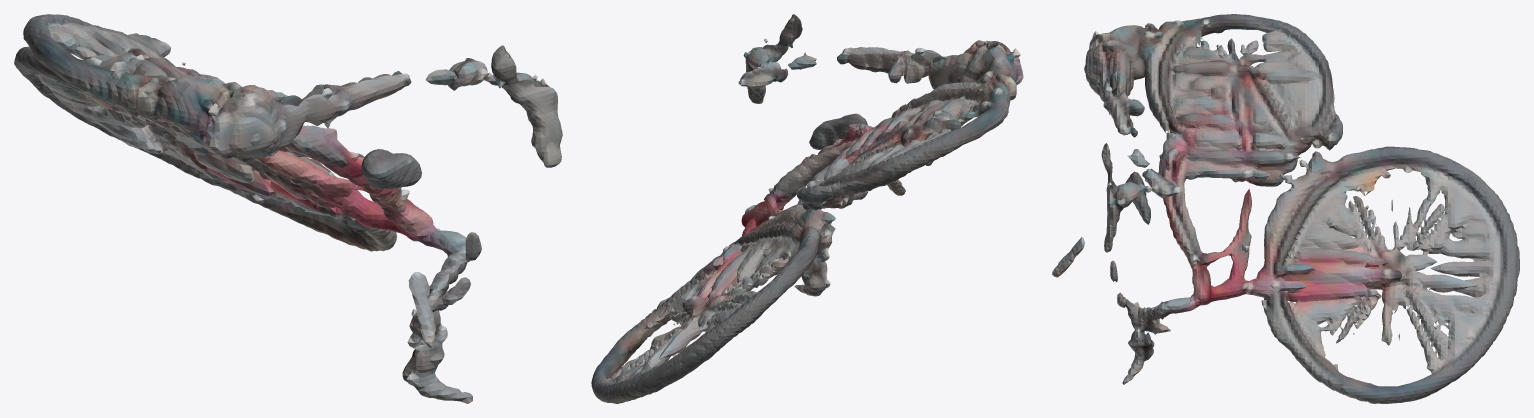
File: 000001_bicycle_sport_bike.glb
3 renders of one model, left to right at view 1: azimuth 30°, elevation 25°; view 2: azimuth 150°, elevation 25°; view 3: azimuth 270°, elevation 25°, orthographic. The views are drawn at different scales.
Parts seen in each view (by area): view 1: world; view 2: world; view 3: world.
Part boxes in pixels (box(x1,y1,x2,y2)): world: box(14, 14, 562, 403); world: box(591, 14, 1023, 403); world: box(1052, 14, 1519, 403).
Bounding box in the file's own units: 0.6607 × 0.5794 × 0.9164.
